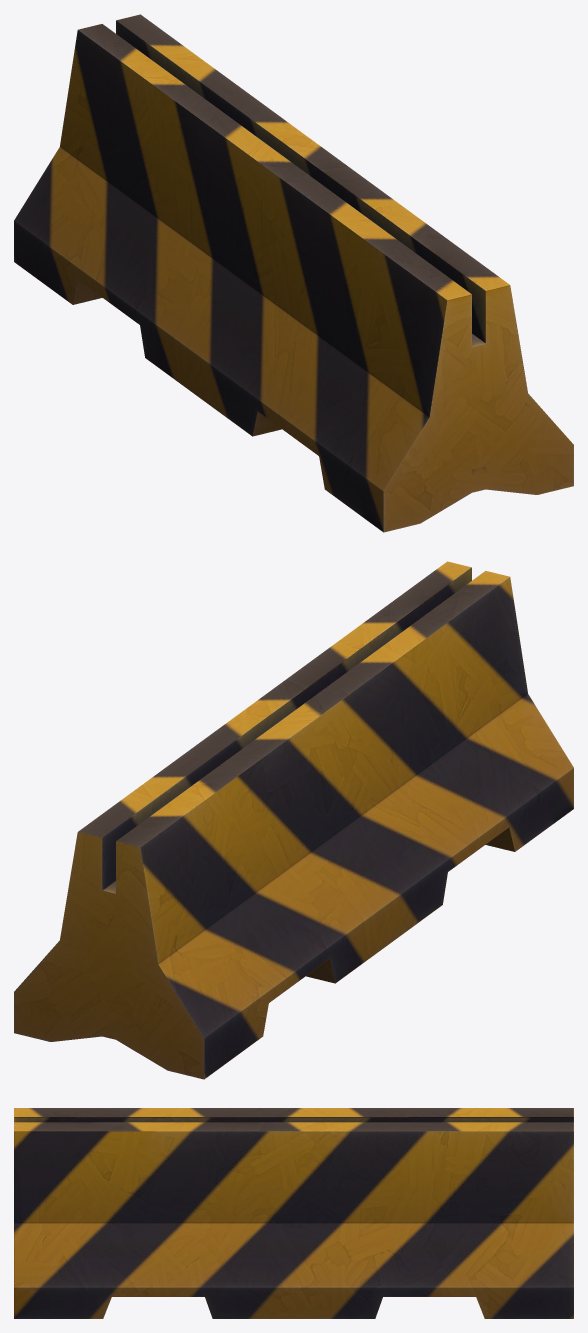
File: obstaculo.glb
3 renders of one model, top to bottom at view 1: azimuth 30°, elevation 25°; view 2: azimuth 150°, elevation 25°; view 3: azimuth 270°, elevation 25°, orthographic. The views are drawn at different scales.
Visible parts, largest first — view 1: Obstaculo; view 2: Obstaculo; view 3: Obstaculo.
Part boxes in pixels (x1=…): Obstaculo: x1=14, y1=14, x2=573, y2=532; Obstaculo: x1=14, y1=561, x2=573, y2=1079; Obstaculo: x1=14, y1=1108, x2=573, y2=1318.
Size of the model in its own units: 1.7 by 1.84 by 5.7.
Materials: 1 (1 with a texture image).
